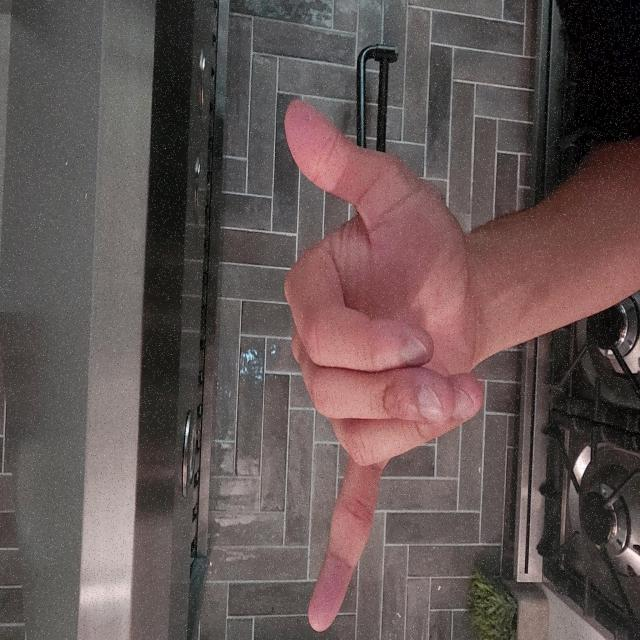Y: (1, 371, 407, 640)
